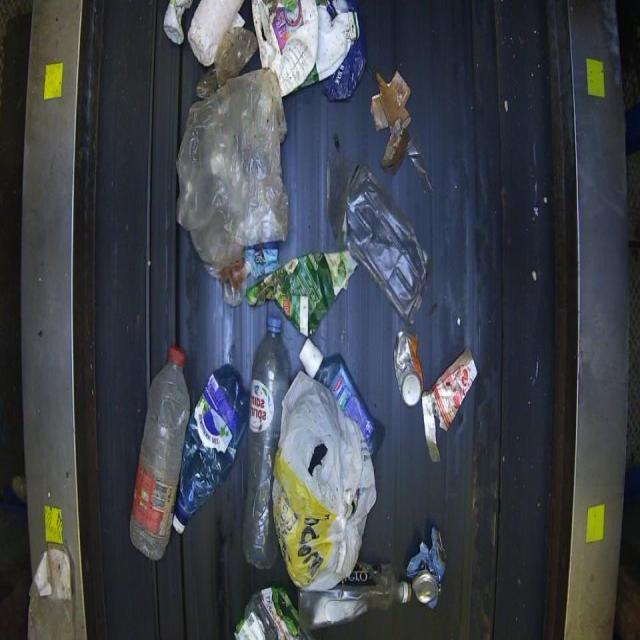bottles: (128, 344, 191, 561)
cups: (341, 163, 429, 325)
